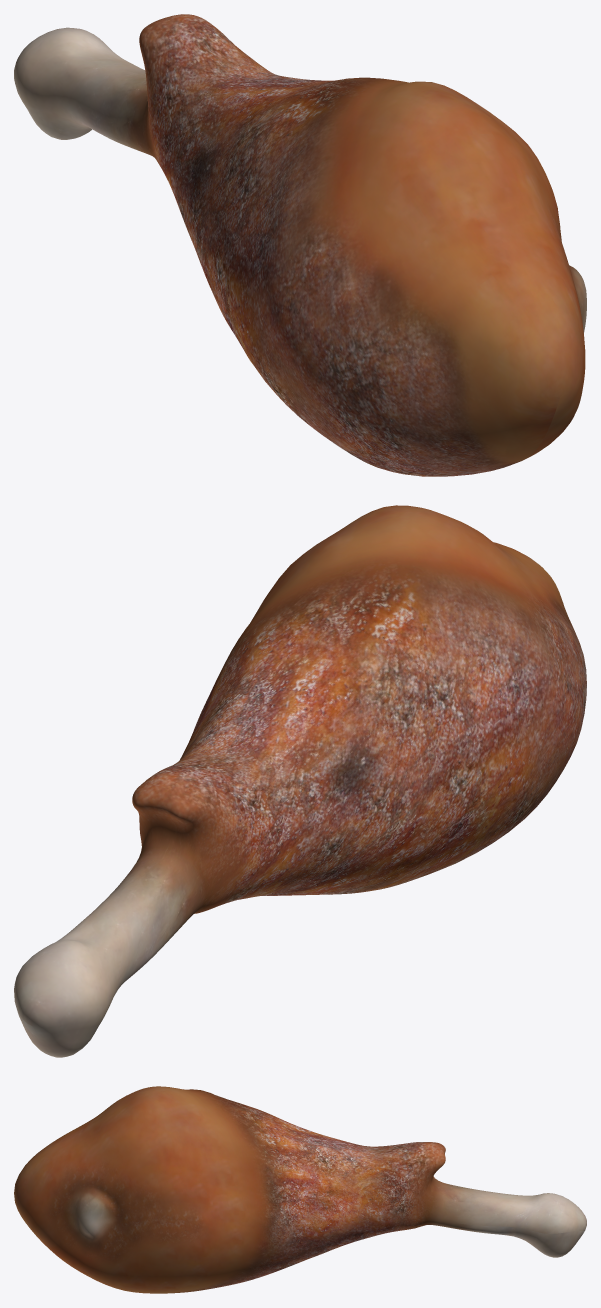
The model's file is turkey_leg.glb.
3 renders of one model, top to bottom at view 1: azimuth 30°, elevation 25°; view 2: azimuth 150°, elevation 25°; view 3: azimuth 270°, elevation 25°, orthographic. The views are drawn at different scales.
Visible parts, largest first — view 1: Object_2; view 2: Object_2; view 3: Object_2.
Boxes of the visible parts, x1,y1,x2,y2 form: Object_2: (14, 14, 586, 476); Object_2: (14, 505, 586, 1057); Object_2: (14, 1086, 586, 1293).
Size of the model in its own units: 1.21 by 1.35 by 3.61.
Materials: 1 (1 with a texture image).
